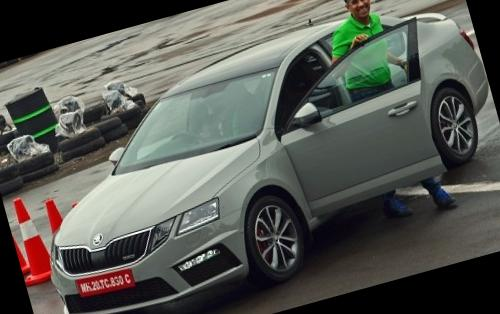plate: (64, 252, 147, 311)
